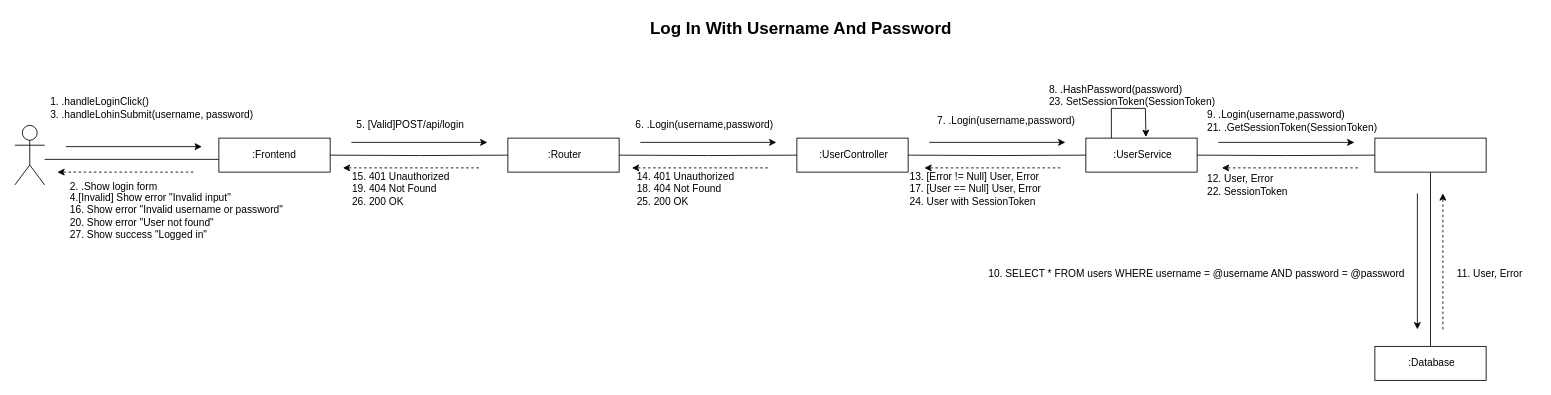
Image size: 1551x395. Some labels were removed from this diagram. The centre of each missing label's shape, as x and y in pixels:
:UserRepository: pixel 1430 154
User: pixel 29 155
